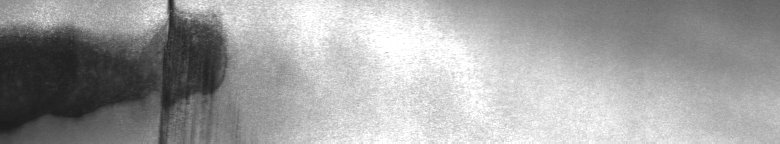ke: (4, 4, 232, 136)
